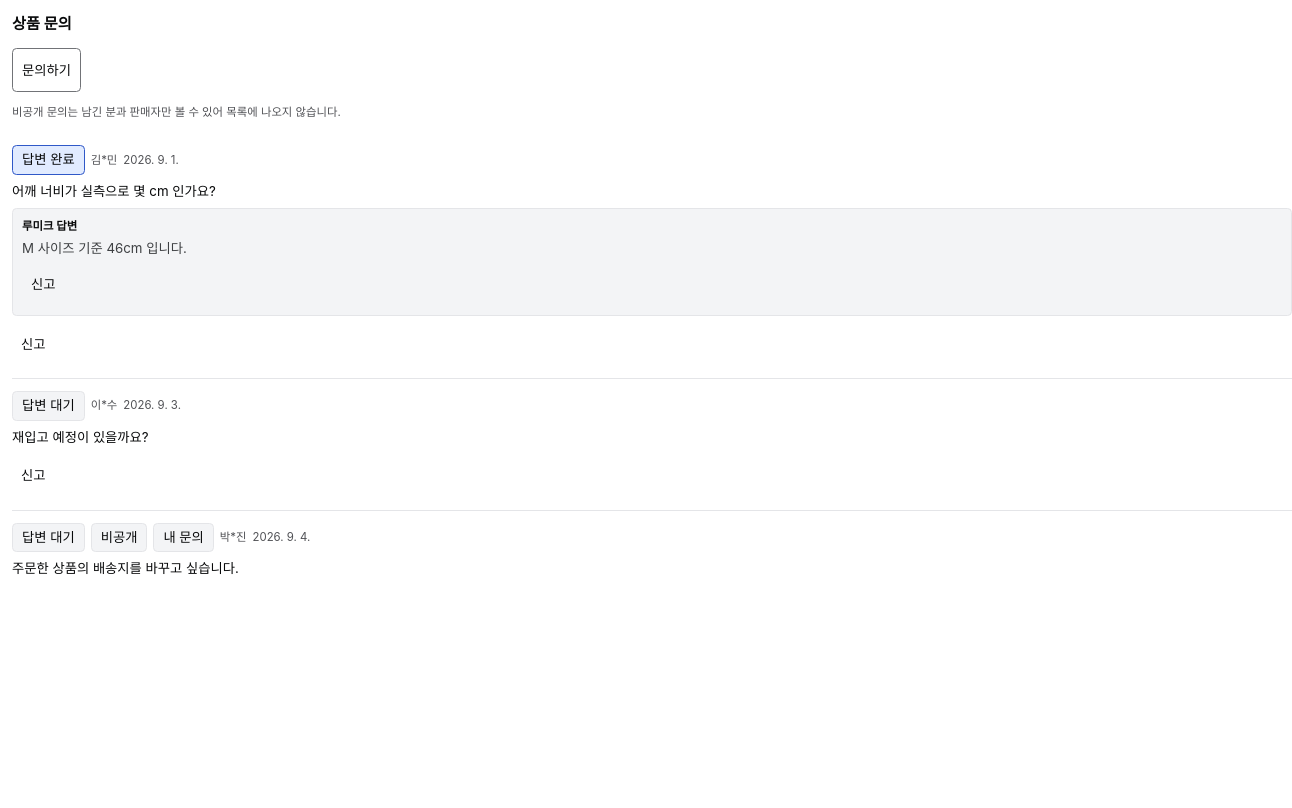
Test: F1 문의 작성 › defaults to public, because a question is part of the product’s information
Check: the list named "상품 문의 목록" is shown, box [12,133,1291,591]
Step 1. Click the button "문의하기" → (46, 70), box [12,48,81,92]
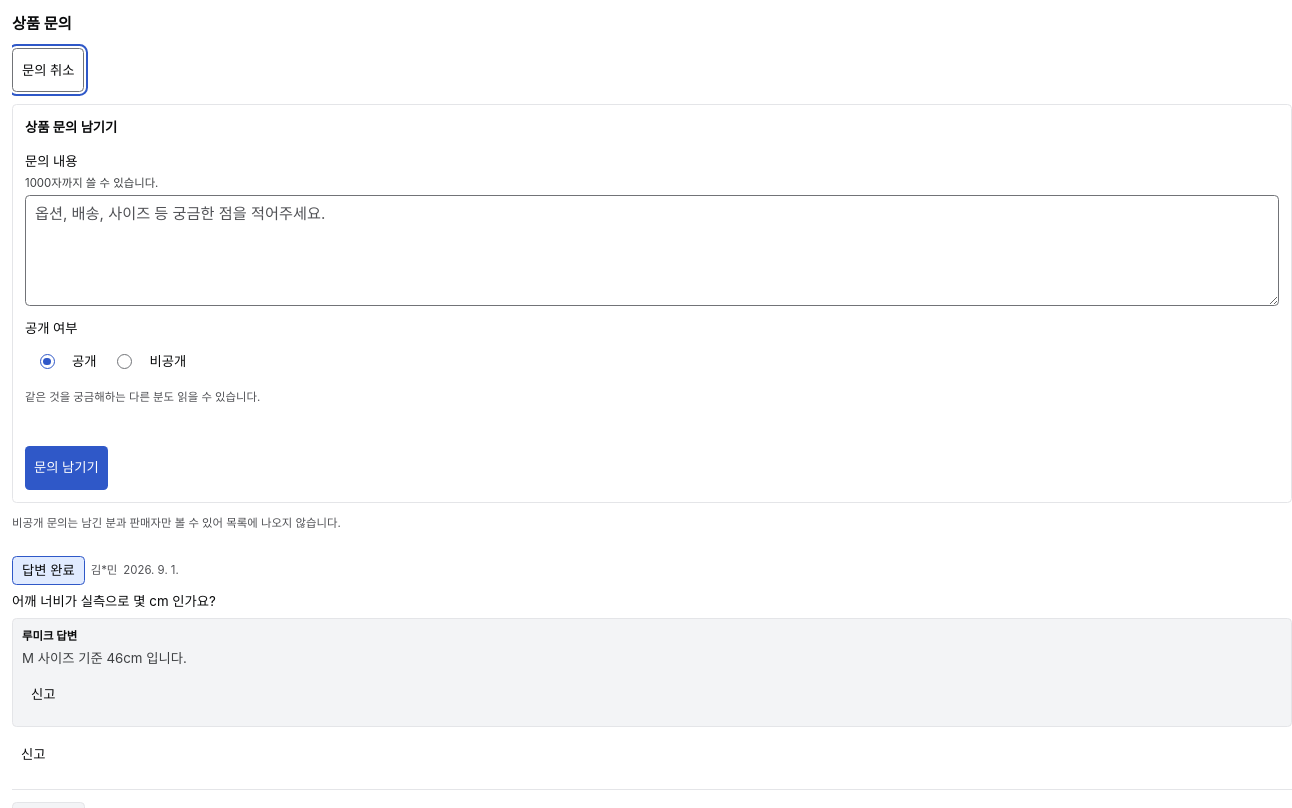
Check: the 1st radio button named "공개" is checked, box [25,339,69,383]
